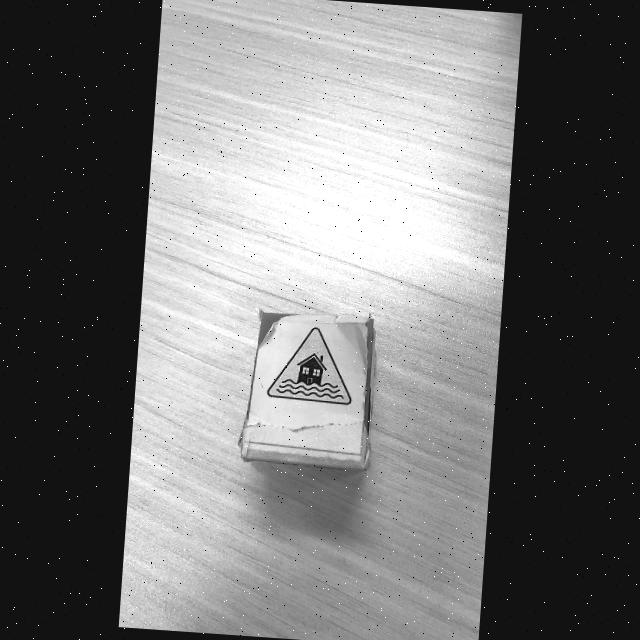Tsunami: (267, 327, 350, 405)
